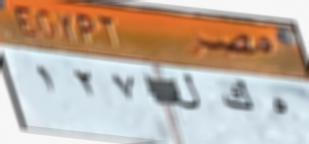1: (35, 61, 55, 97)
2: (72, 65, 97, 100)
7: (109, 72, 139, 103)
haa: (266, 90, 289, 121)
kaaf: (221, 75, 255, 119)
laam: (170, 69, 201, 117)
